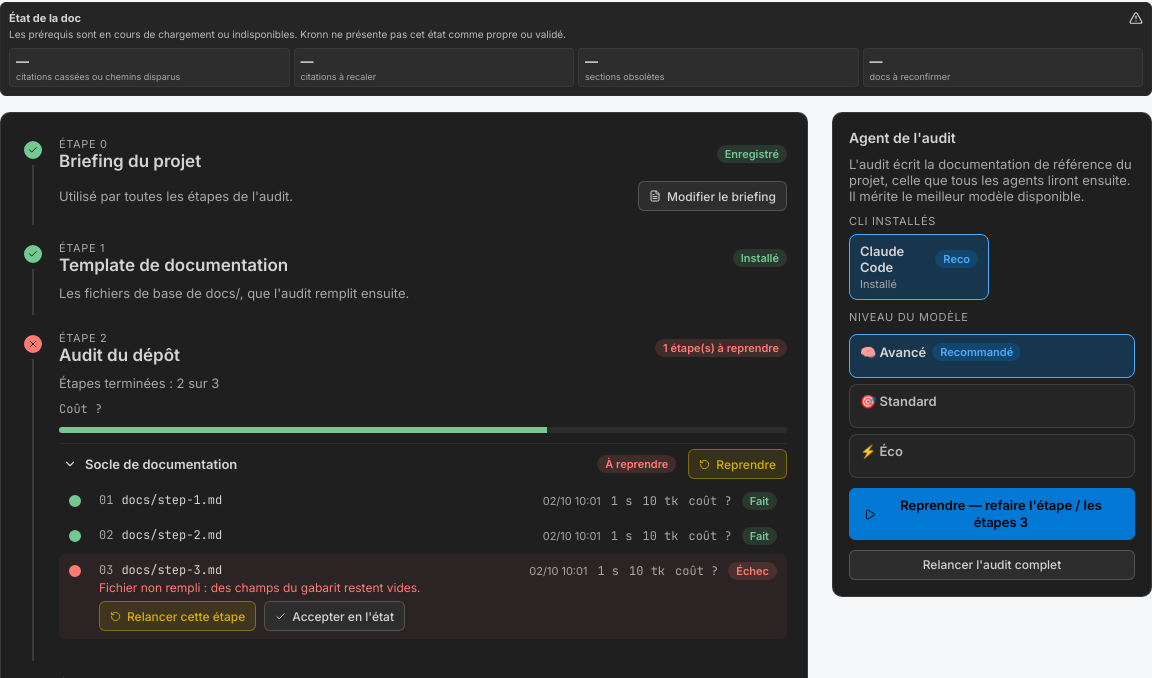
Test: AuditTimeline — KT-1169 acceptance: never an error without an action › a refused acceptance keeps the form, its reason and a button to try again
Click the button with test id "audit-timeline-step-accept-3": point(335, 616) [264,601,405,631]
(page scrolled)
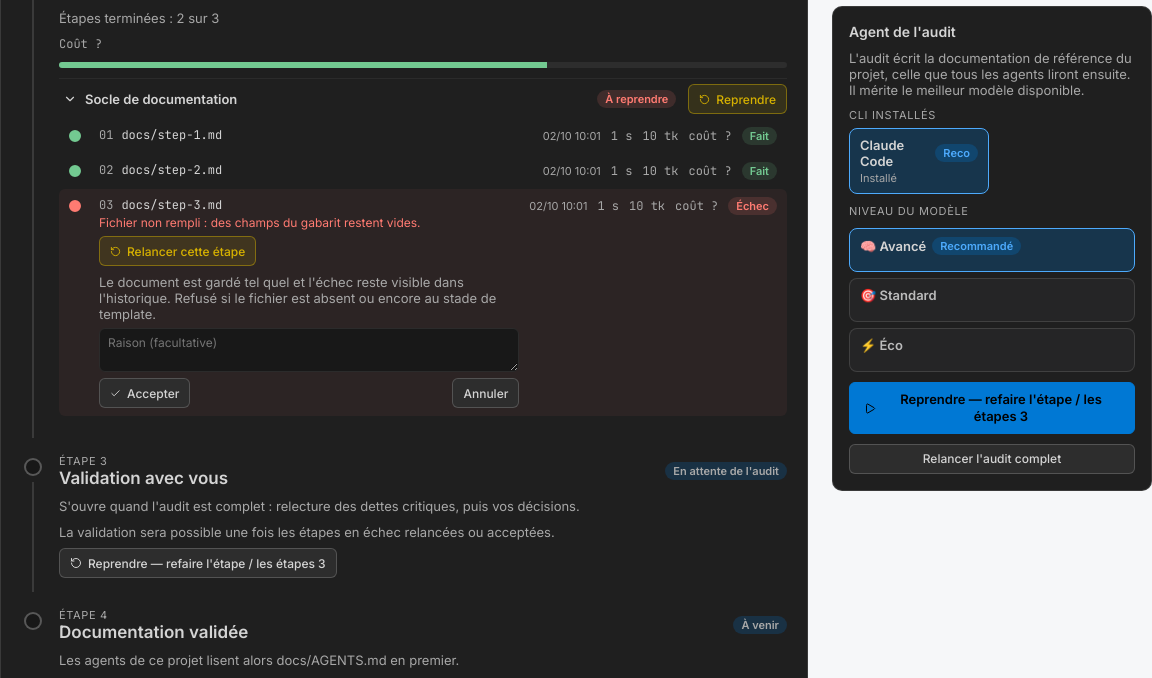
In the text box: point(309, 350) [99,328,519,372], type "kept by hand"
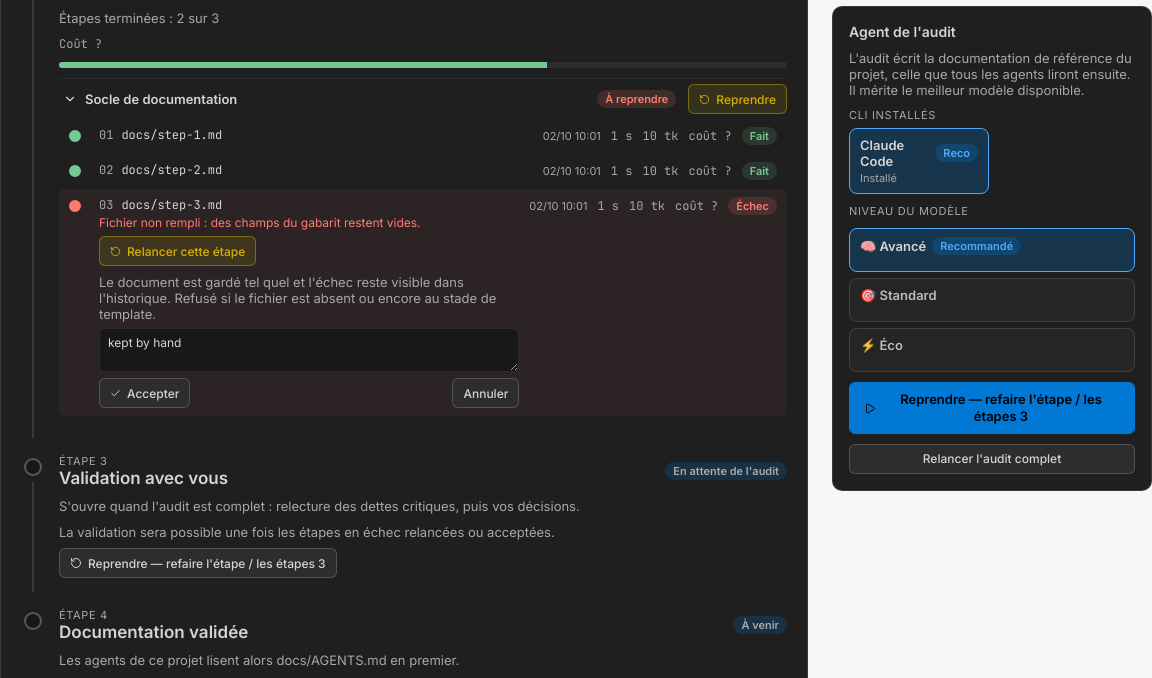
Click the button with test id "audit-timeline-accept-confirm-3": point(145, 393) [99,378,190,408]
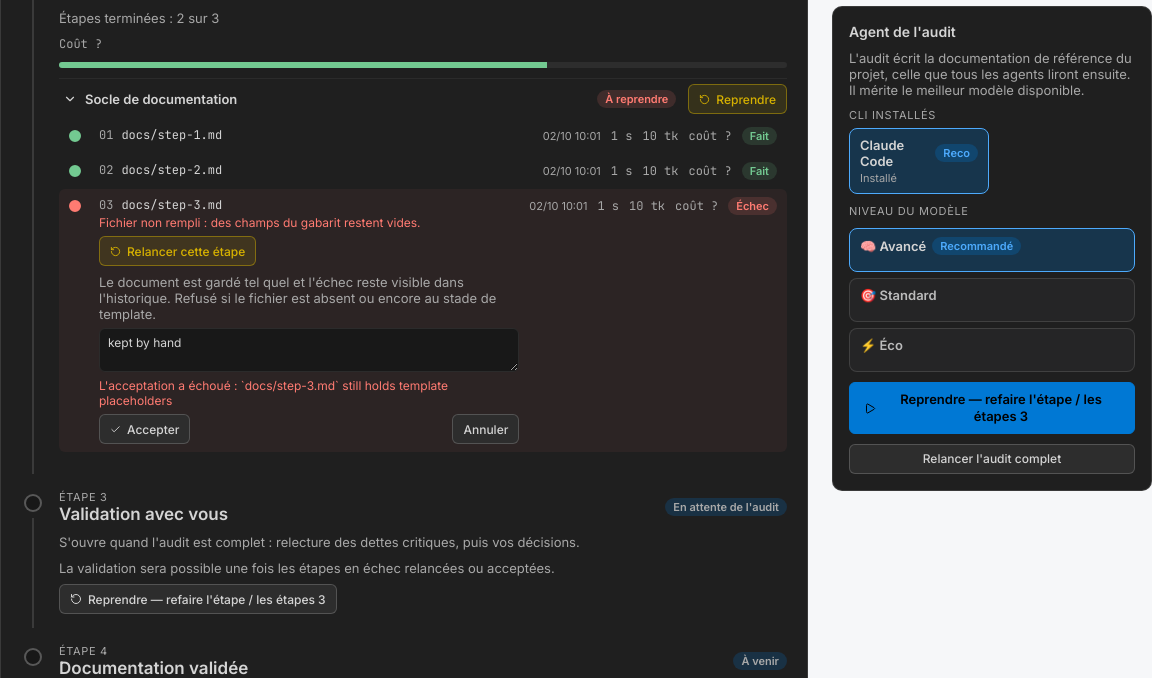
Expected: the message with test id "audit-timeline-accept-error-3" shows "template placeholders", [99,378,448,408]
Click the button with test id "audit-timeline-accept-confirm-3": point(145, 429) [99,414,190,444]
(page scrolled)
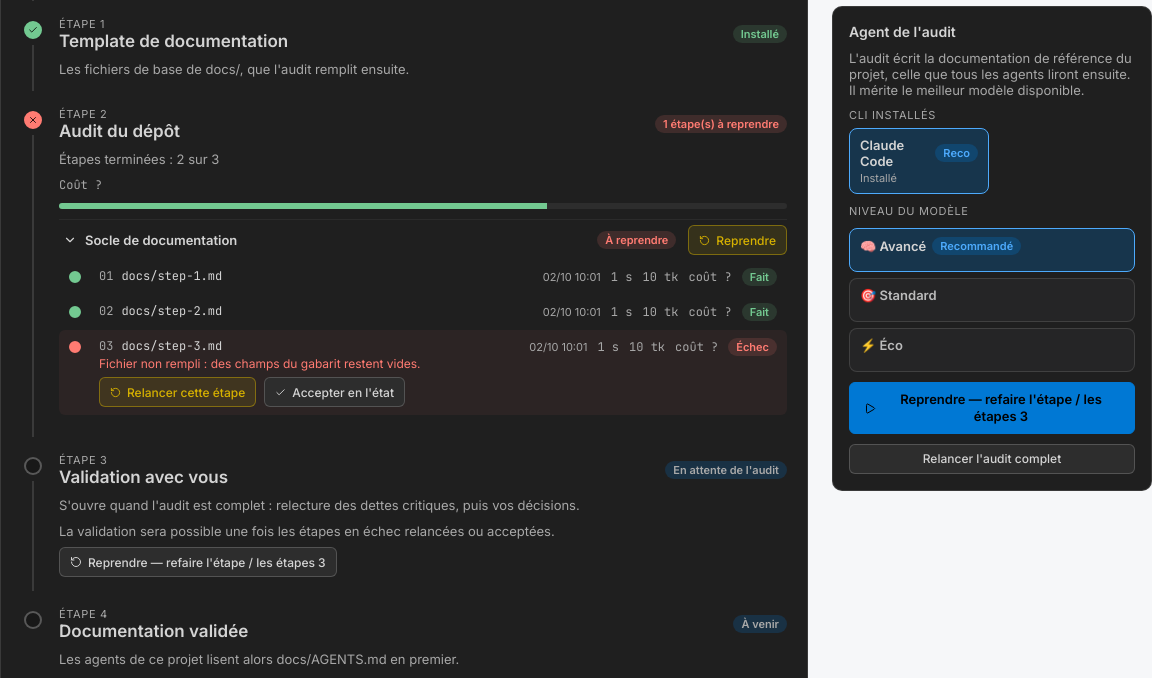
Expected: the element with test id "audit-timeline-accept-form-3" is gone
